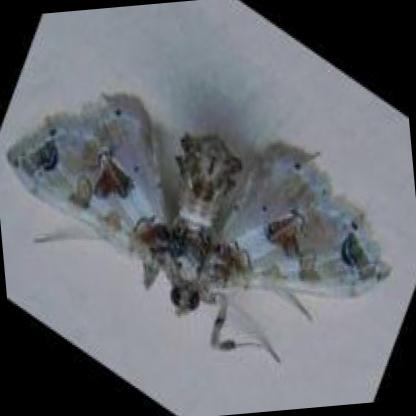leucinodes: (12, 113, 392, 344)
